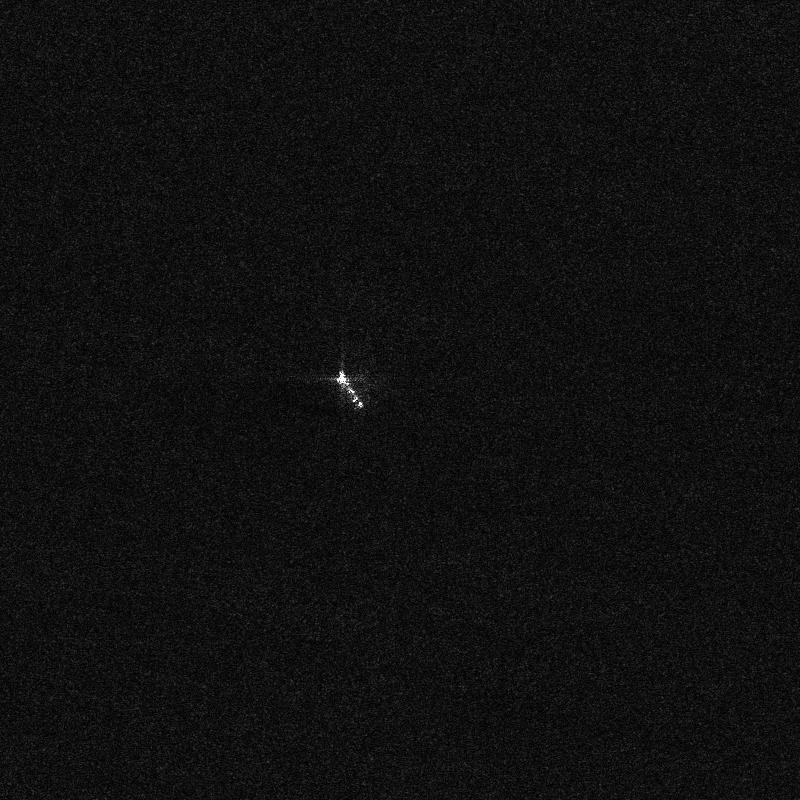ship: (336, 371, 363, 408)
